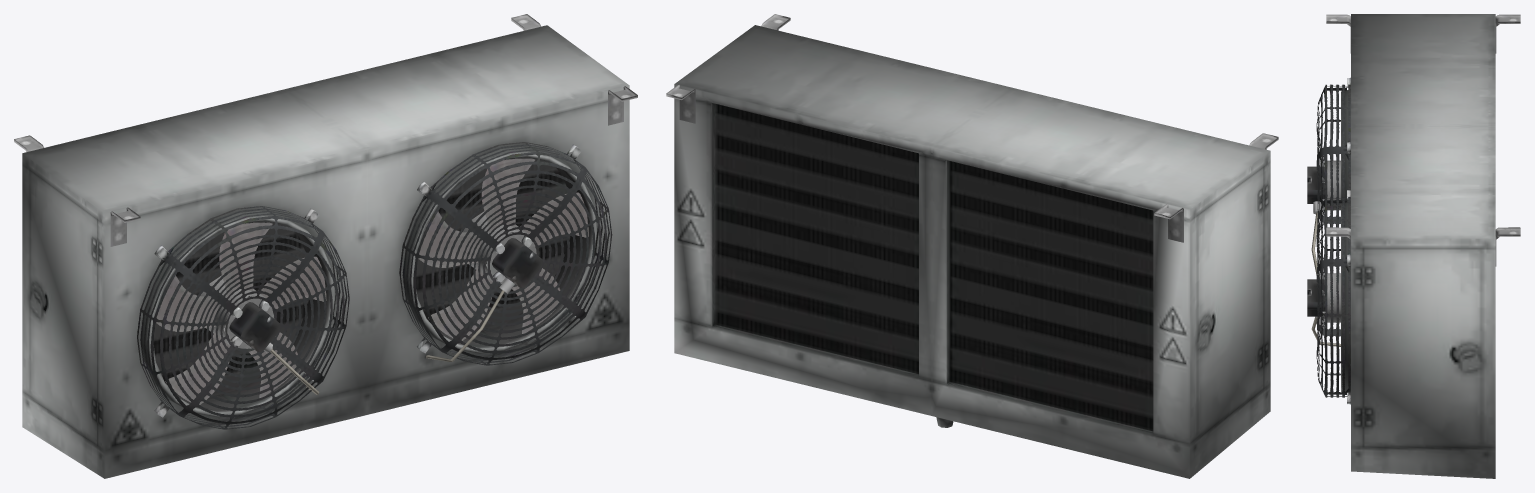
File: condenser-unit.gltf
3 renders of one model, left to right at view 1: azimuth 30°, elevation 25°; view 2: azimuth 150°, elevation 25°; view 3: azimuth 270°, elevation 25°, orthographic. The views are drawn at different scales.
Visible parts, largest first — view 1: Sketchfab_model; view 2: Sketchfab_model; view 3: Sketchfab_model.
Part boxes in pixels (x1,y1,x2,y2): Sketchfab_model: [14, 14, 637, 478]; Sketchfab_model: [666, 14, 1278, 478]; Sketchfab_model: [1307, 14, 1520, 478].
Bounding box in the file's own units: 1.19 × 0.6367 × 0.4752.
2 materials, 2 textured.
